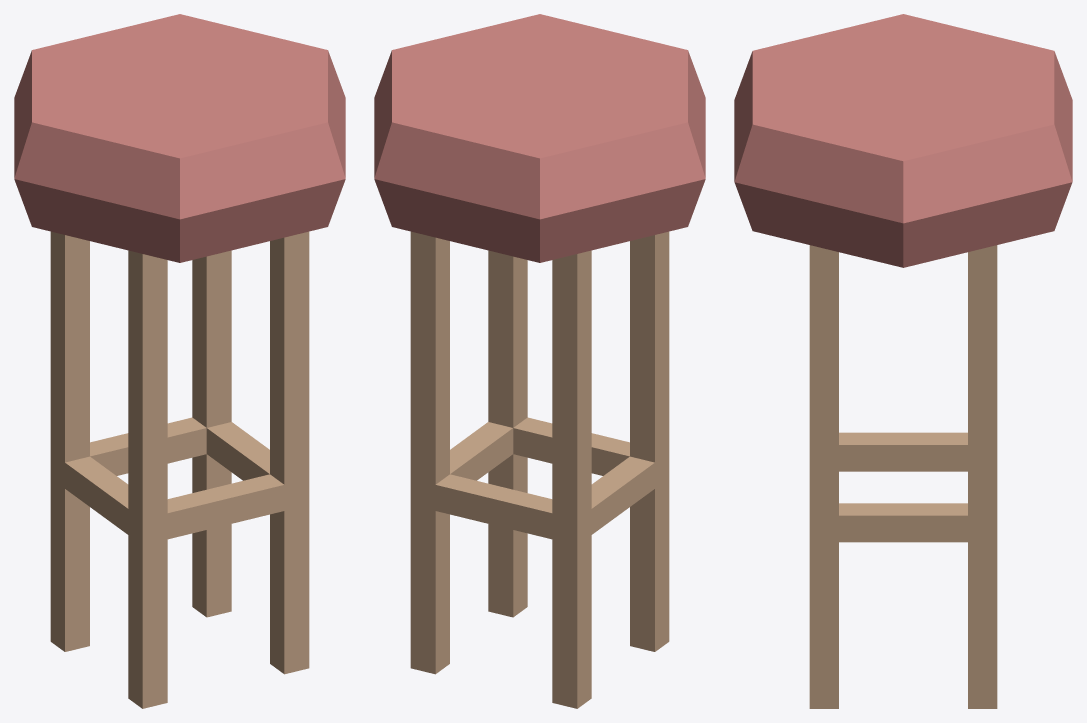
Rendered from stoolBar.glb.
3 renders of one model, left to right at view 1: azimuth 30°, elevation 25°; view 2: azimuth 150°, elevation 25°; view 3: azimuth 270°, elevation 25°, orthographic.
Parts seen in each view (by area): view 1: stoolBar; view 2: stoolBar; view 3: stoolBar.
Boxes of the visible parts, x1,y1,x2,y2 form: stoolBar: (14, 14, 345, 708); stoolBar: (374, 14, 705, 708); stoolBar: (734, 14, 1072, 708).
Bounding box in the file's own units: 0.2654 × 0.435 × 0.2299.
